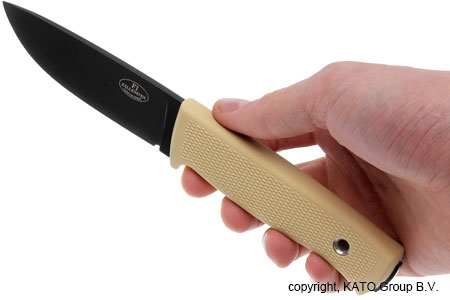knife: (1, 1, 303, 225)
